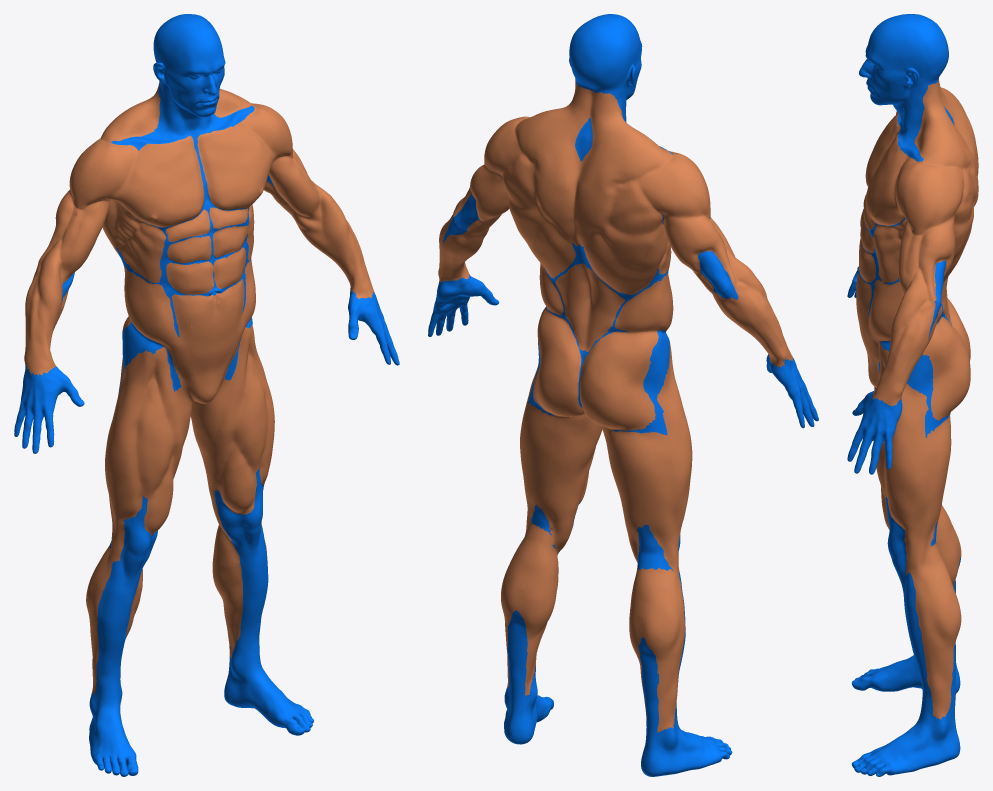
File: muscle_map.gltf
The picture shows the model from 3 angles, left to right: view 1: azimuth 30°, elevation 25°; view 2: azimuth 150°, elevation 25°; view 3: azimuth 270°, elevation 25°; orthographic projection. The views are drawn at different scales.
Parts seen in each view (by area): view 1: body, pecs, lower_ab, hip_abductor, brachioradialis, quads, deltoids, lower_obliques, biceps, calves, sartorius, upper_ab (+8 smaller); view 2: body, hamstrings, traps, calves, glutes, lats, deltoids, triceps, teres_major, erector_spinae, flexor, hip_abductor (+3 smaller); view 3: body, calves, hip_abductor, traps, brachioradialis, deltoids, glutes, hamstrings, pecs, lower_obliques, triceps, lower_ab (+6 smaller).
Boxes of the visible parts, box(x1,y1,x2,y2) form: body: box(14, 14, 399, 776); pecs: box(107, 122, 275, 227); lower_ab: box(166, 247, 245, 402); hip_abductor: box(105, 325, 274, 521); brachioradialis: box(24, 180, 373, 375); quads: box(136, 353, 268, 499); deltoids: box(69, 103, 292, 208); lower_obliques: box(124, 258, 255, 403); biceps: box(60, 156, 320, 282); calves: box(86, 525, 267, 694); sartorius: box(153, 327, 250, 490); upper_ab: box(165, 207, 247, 263); body: box(428, 14, 818, 776); hamstrings: box(520, 402, 681, 576); traps: box(516, 80, 672, 247); calves: box(501, 521, 685, 732); glutes: box(533, 307, 658, 430); lats: box(508, 197, 667, 294); deltoids: box(484, 116, 710, 218); triceps: box(452, 164, 737, 293); teres_major: box(502, 151, 663, 234); erector_spinae: box(555, 263, 624, 351); flexor: box(442, 227, 784, 367); hip_abductor: box(520, 342, 692, 526); body: box(847, 14, 960, 776); calves: box(911, 505, 961, 719); hip_abductor: box(882, 349, 930, 530); traps: box(914, 78, 978, 206); brachioradialis: box(873, 266, 935, 405); deltoids: box(894, 111, 963, 235); glutes: box(922, 298, 970, 420); hamstrings: box(904, 413, 951, 575); pecs: box(865, 113, 907, 225); lower_obliques: box(865, 279, 942, 387); triceps: box(917, 214, 955, 301); lower_ab: box(856, 225, 875, 382).
Size of the model in its own units: 1.22 by 2.24 by 0.374.
